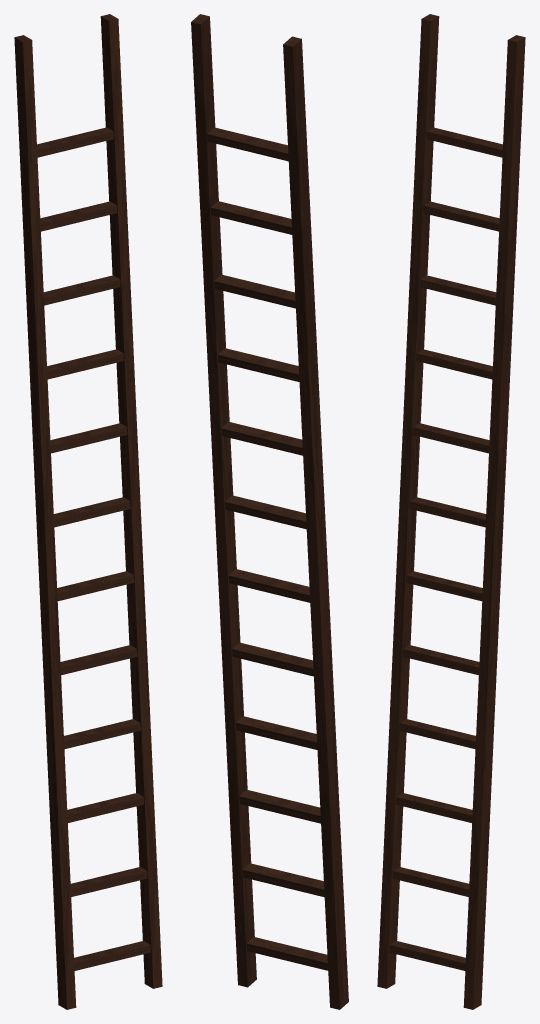
File: mdl_hub_ladder.gltf
The picture shows the model from 3 angles, left to right: view 1: azimuth 30°, elevation 25°; view 2: azimuth 150°, elevation 25°; view 3: azimuth 330°, elevation 25°; orthographic projection. The views are drawn at different scales.
Visible parts, largest first — view 1: Cube.004; view 2: Cube.004; view 3: Cube.004.
Part boxes in pixels (bbox=[...]): Cube.004: bbox=[14, 14, 162, 1009]; Cube.004: bbox=[191, 14, 348, 1009]; Cube.004: bbox=[377, 14, 525, 1009].
Size of the model in its own units: 0.9924 by 9.3 by 0.946.
1 material, 1 textured.
